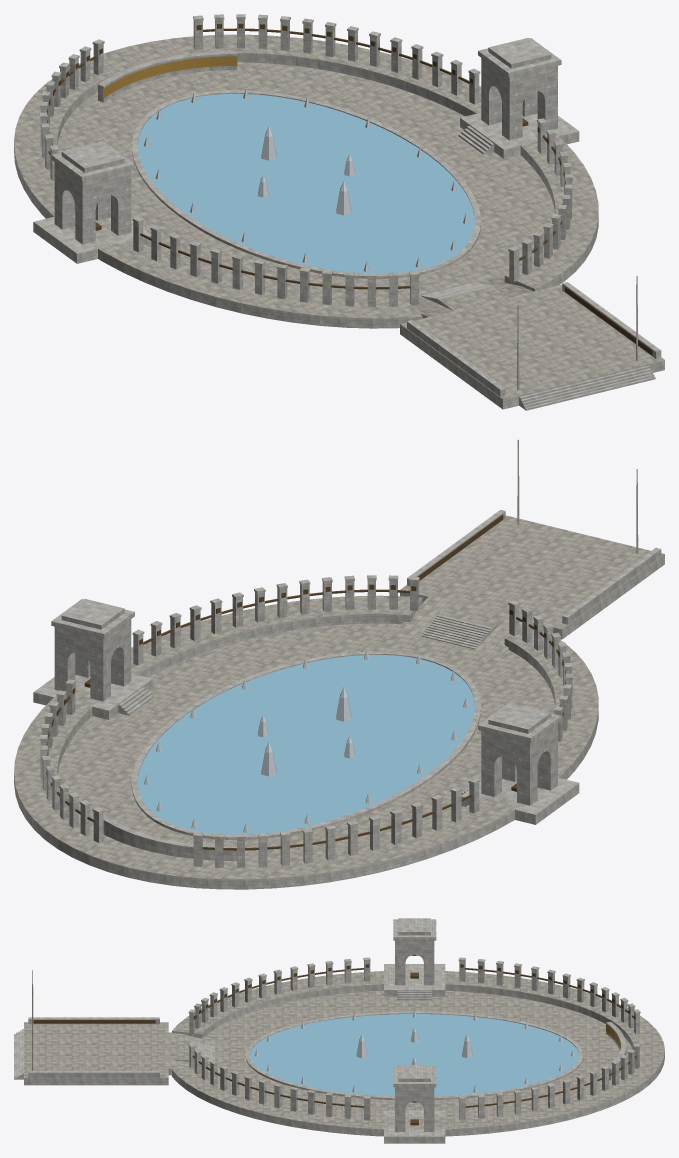
File: wwii_memorial.glb
The picture shows the model from 3 angles, top to bottom: view 1: azimuth 30°, elevation 25°; view 2: azimuth 150°, elevation 25°; view 3: azimuth 270°, elevation 25°; orthographic projection. The views are drawn at different scales.
Parts seen in each view (by area): view 1: wwii_memorial; view 2: wwii_memorial; view 3: wwii_memorial.
Boxes of the visible parts, box(x1,y1,x2,y2) form: wwii_memorial: box(14, 14, 664, 410); wwii_memorial: box(14, 440, 664, 889); wwii_memorial: box(14, 918, 664, 1143).
Size of the model in its own units: 92.99 by 16.79 by 148.
4 materials, 3 textured.
